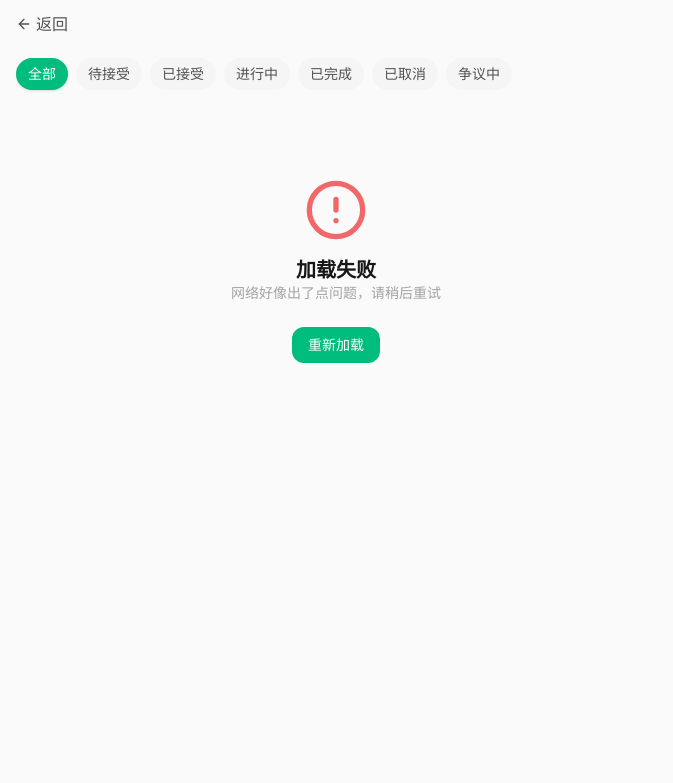
Test: SkillExchange 订单列表与状态操作 › 加载失败显示 Empty error 与重新加载按钮，点击后重新触发请求
Expected: the heading "加载失败" is shown, [296,258,376,283]
Note: 点击重新加载触发二次请求
What coordinates should you click on to do the following:
click the button "重新加载"
I would click on:
 (336, 345)
Its box is [292,327,380,363].
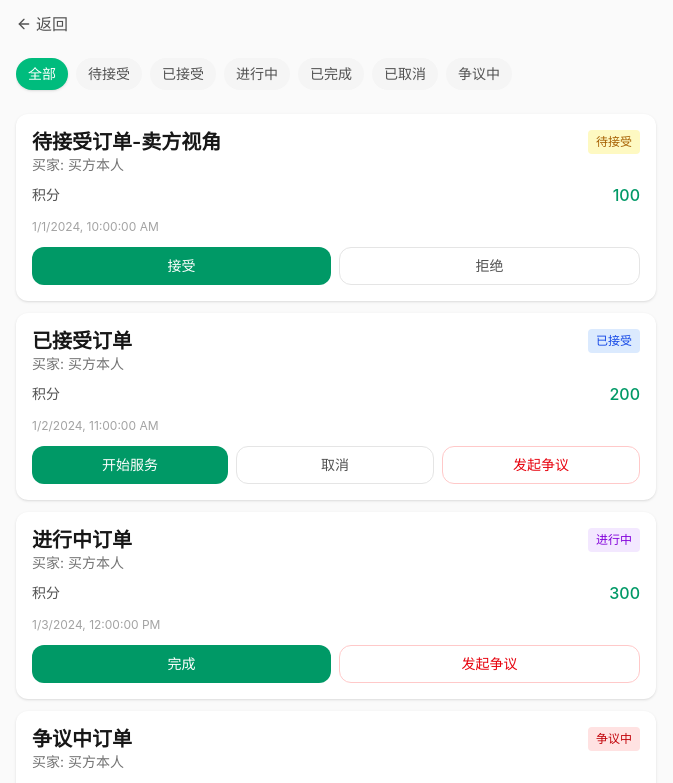
Expected: the heading "待接受订单-卖方视角" is shown, [32,130,221,154]
